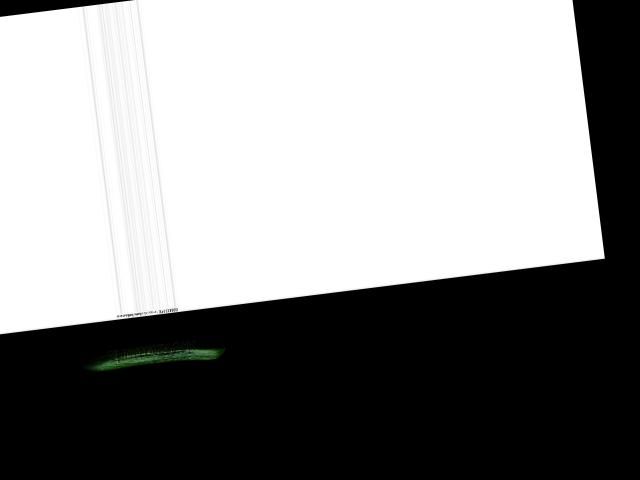cucumber: (79, 334, 227, 374)
